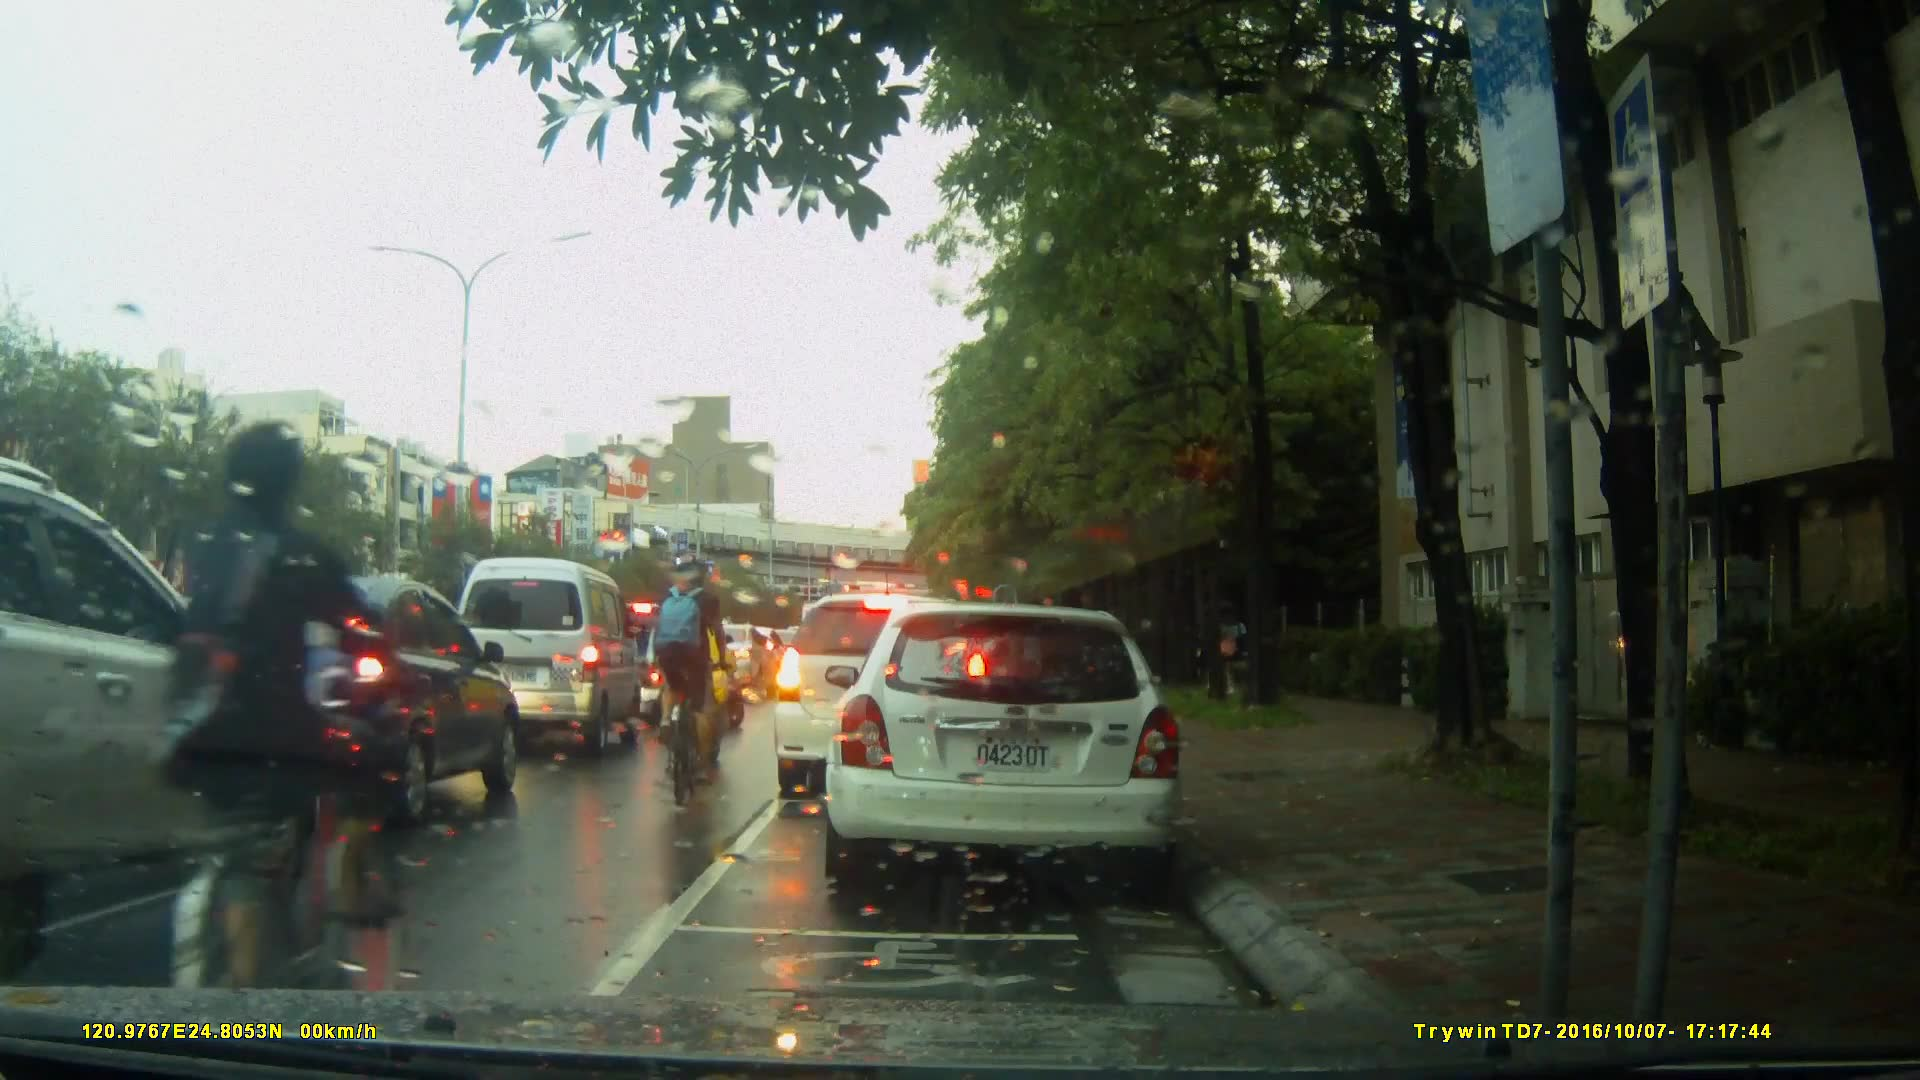rider: (162, 426, 399, 1023), (663, 555, 725, 808), (655, 595, 728, 770)
vehicle: (1, 445, 327, 987), (815, 593, 1204, 909), (178, 573, 529, 831), (770, 591, 993, 800), (445, 557, 649, 764), (599, 599, 741, 718)
